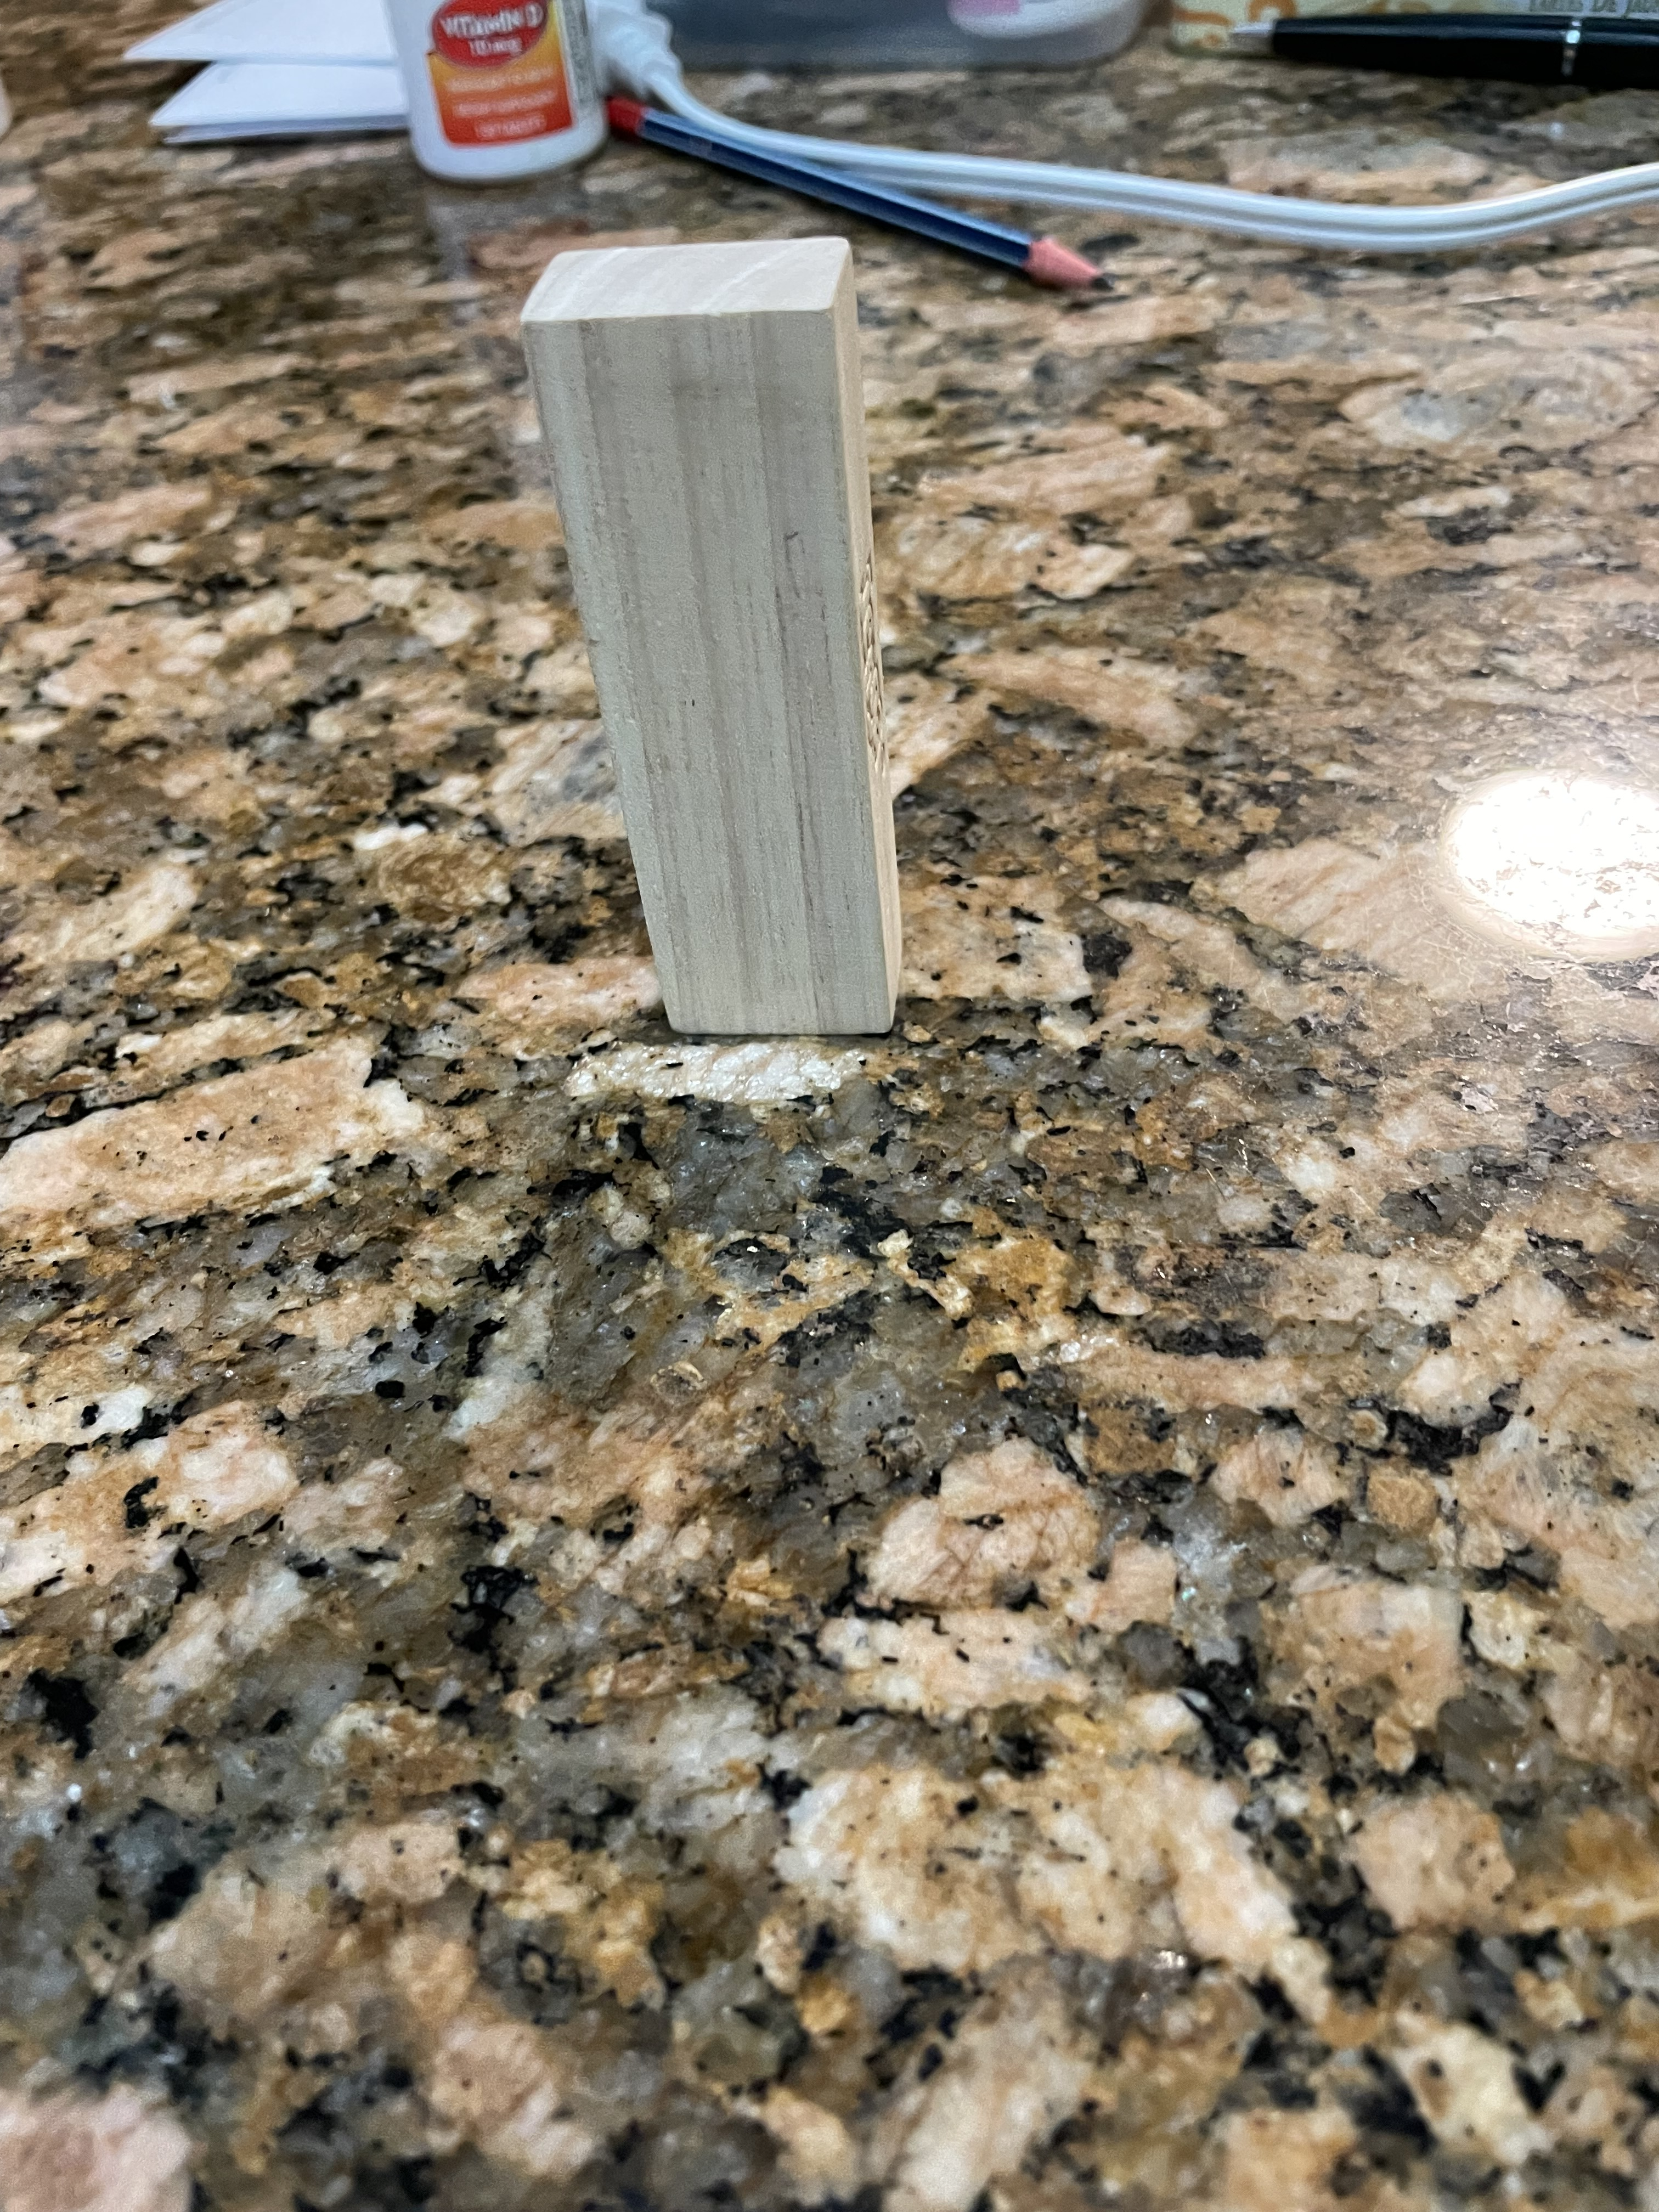jenga: (516, 239, 920, 1022)
